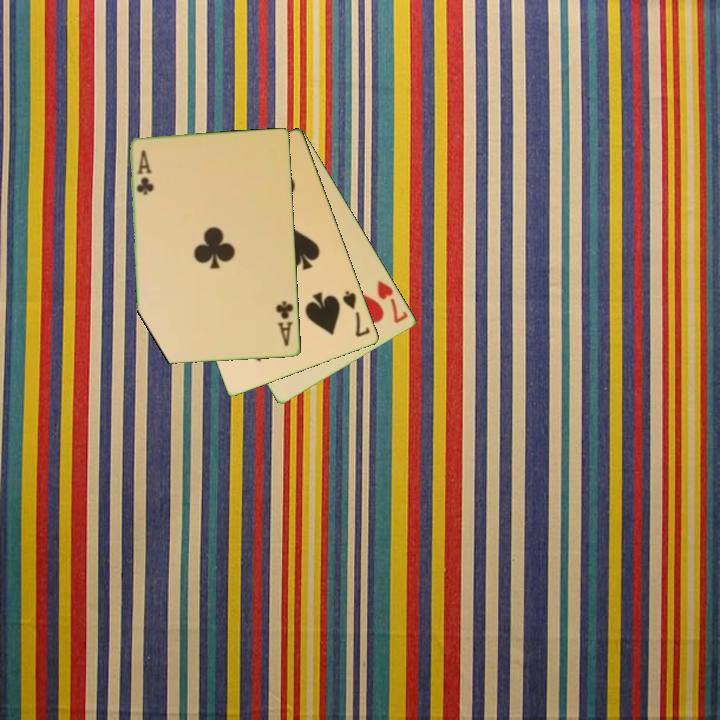7h: (374, 277, 411, 326)
7s: (339, 287, 373, 340)
Ac: (273, 298, 296, 349), (133, 147, 156, 198)
